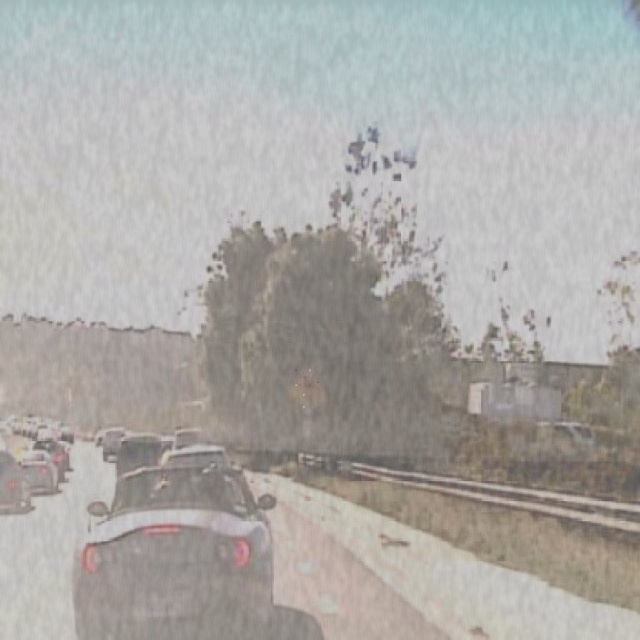signalAhead: (289, 363, 326, 416)
